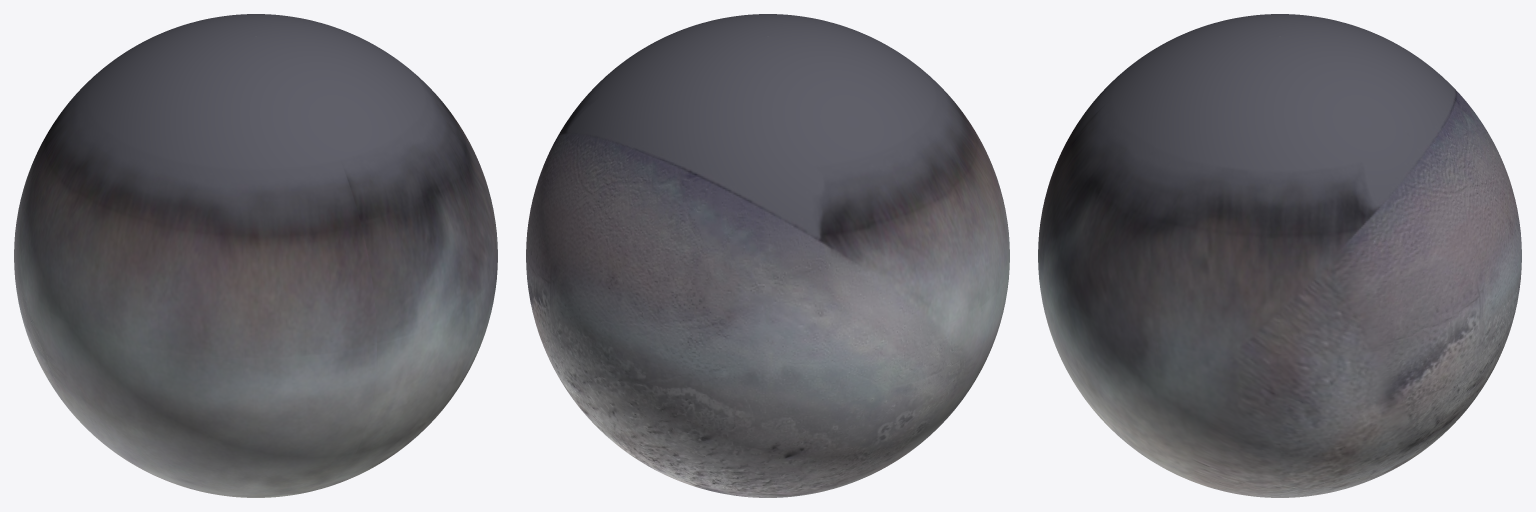
File: moontriton.glb
3 renders of one model, left to right at view 1: azimuth 30°, elevation 25°; view 2: azimuth 150°, elevation 25°; view 3: azimuth 270°, elevation 25°, orthographic.
Visible parts, largest first — view 1: cylindrically_mapped_sphere; view 2: cylindrically_mapped_sphere; view 3: cylindrically_mapped_sphere.
Part boxes in pixels (<box>): cylindrically_mapped_sphere: <box>14,14,497,497</box>; cylindrically_mapped_sphere: <box>526,14,1009,497</box>; cylindrically_mapped_sphere: <box>1038,14,1521,497</box>.
Size of the model in its own units: 1000 by 1000 by 1000.
Materials: 1 (1 with a texture image).
